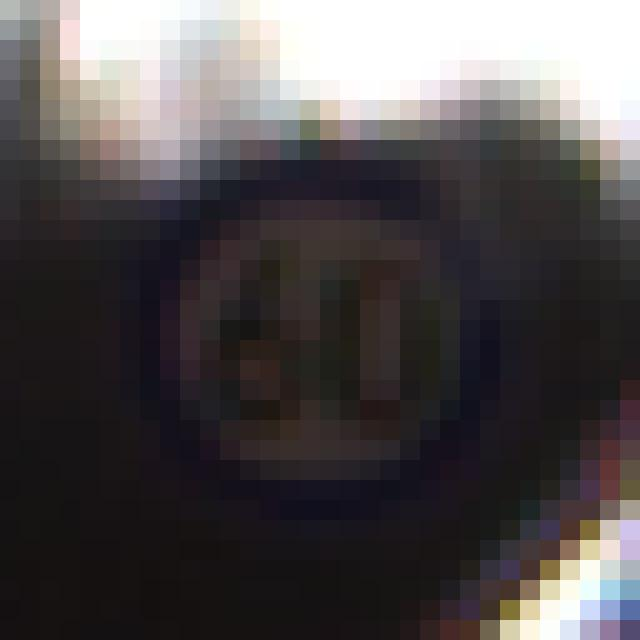SPEED-LIMIT-60: (142, 170, 503, 510)
